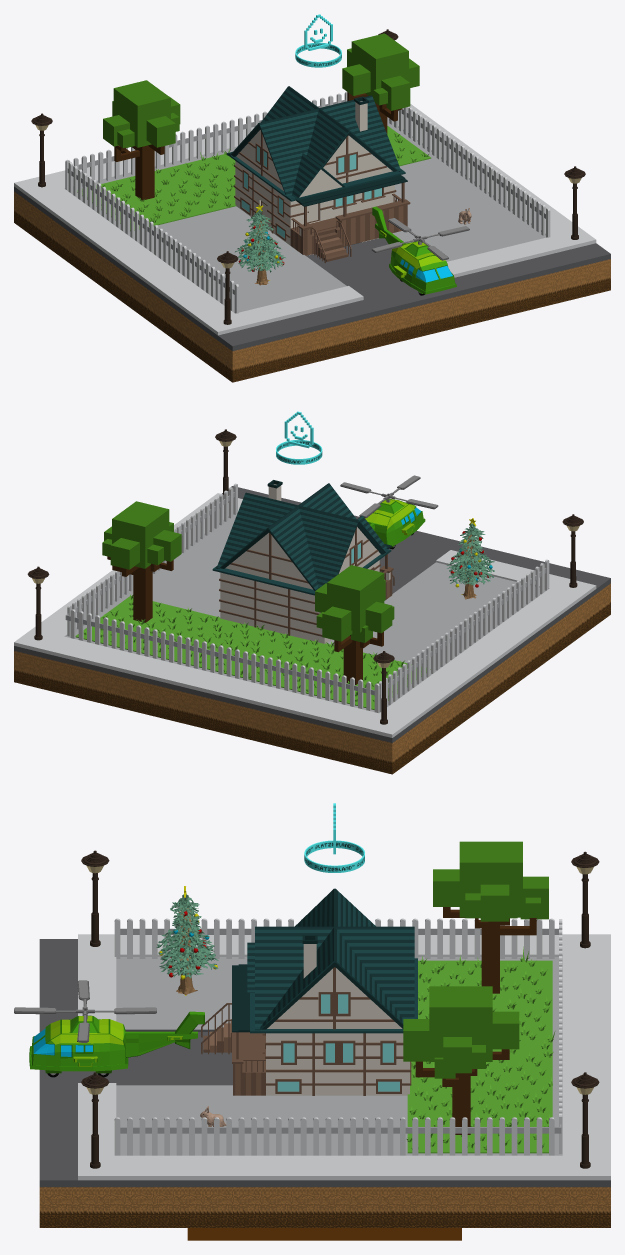
The picture shows the model from 3 angles, top to bottom: view 1: azimuth 30°, elevation 25°; view 2: azimuth 150°, elevation 25°; view 3: azimuth 270°, elevation 25°; orthographic projection. The views are drawn at different scales.
Visible parts, largest first — view 1: Cube.004, Cube.793, VEHICLES_HELICOPTER, OBJRANDOM_CHRISTMAS_TREE, TYPE_PREMIUM; view 2: Cube.004, Cube.793, VEHICLES_HELICOPTER, OBJRANDOM_CHRISTMAS_TREE, TYPE_PREMIUM; view 3: Cube.004, Cube.793, VEHICLES_HELICOPTER, UNDERGROUND_ART_PIECE_VAN_GOGH, OBJRANDOM_CHRISTMAS_TREE, TYPE_PREMIUM.
Boxes of the visible parts, <box> form: Cube.004: <box>14,29,610,382</box>; Cube.793: <box>227,86,410,262</box>; VEHICLES_HELICOPTER: <box>371,206,469,295</box>; OBJRANDOM_CHRISTMAS_TREE: <box>235,204,285,285</box>; TYPE_PREMIUM: <box>295,14,341,67</box>; Cube.004: <box>14,429,610,774</box>; Cube.793: <box>212,480,394,643</box>; VEHICLES_HELICOPTER: <box>340,475,438,549</box>; OBJRANDOM_CHRISTMAS_TREE: <box>446,518,494,599</box>; TYPE_PREMIUM: <box>276,411,322,464</box>; Cube.004: <box>39,841,610,1227</box>; Cube.793: <box>201,888,417,1095</box>; VEHICLES_HELICOPTER: <box>14,980,204,1077</box>; UNDERGROUND_ART_PIECE_VAN_GOGH: <box>187,1228,461,1240</box>; OBJRANDOM_CHRISTMAS_TREE: <box>156,886,218,995</box>; TYPE_PREMIUM: <box>304,803,364,872</box>.
Size of the model in its own units: 4000 by 2592 by 4179.
35 materials, 6 textured.
